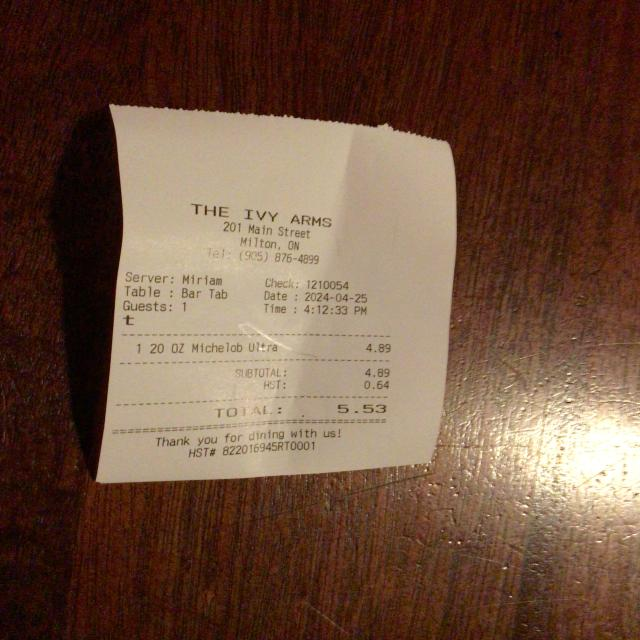item: (144, 335, 394, 358)
store_name: (186, 201, 336, 228)
total_amount: (210, 398, 392, 422)
transaction_date: (302, 290, 373, 306)
